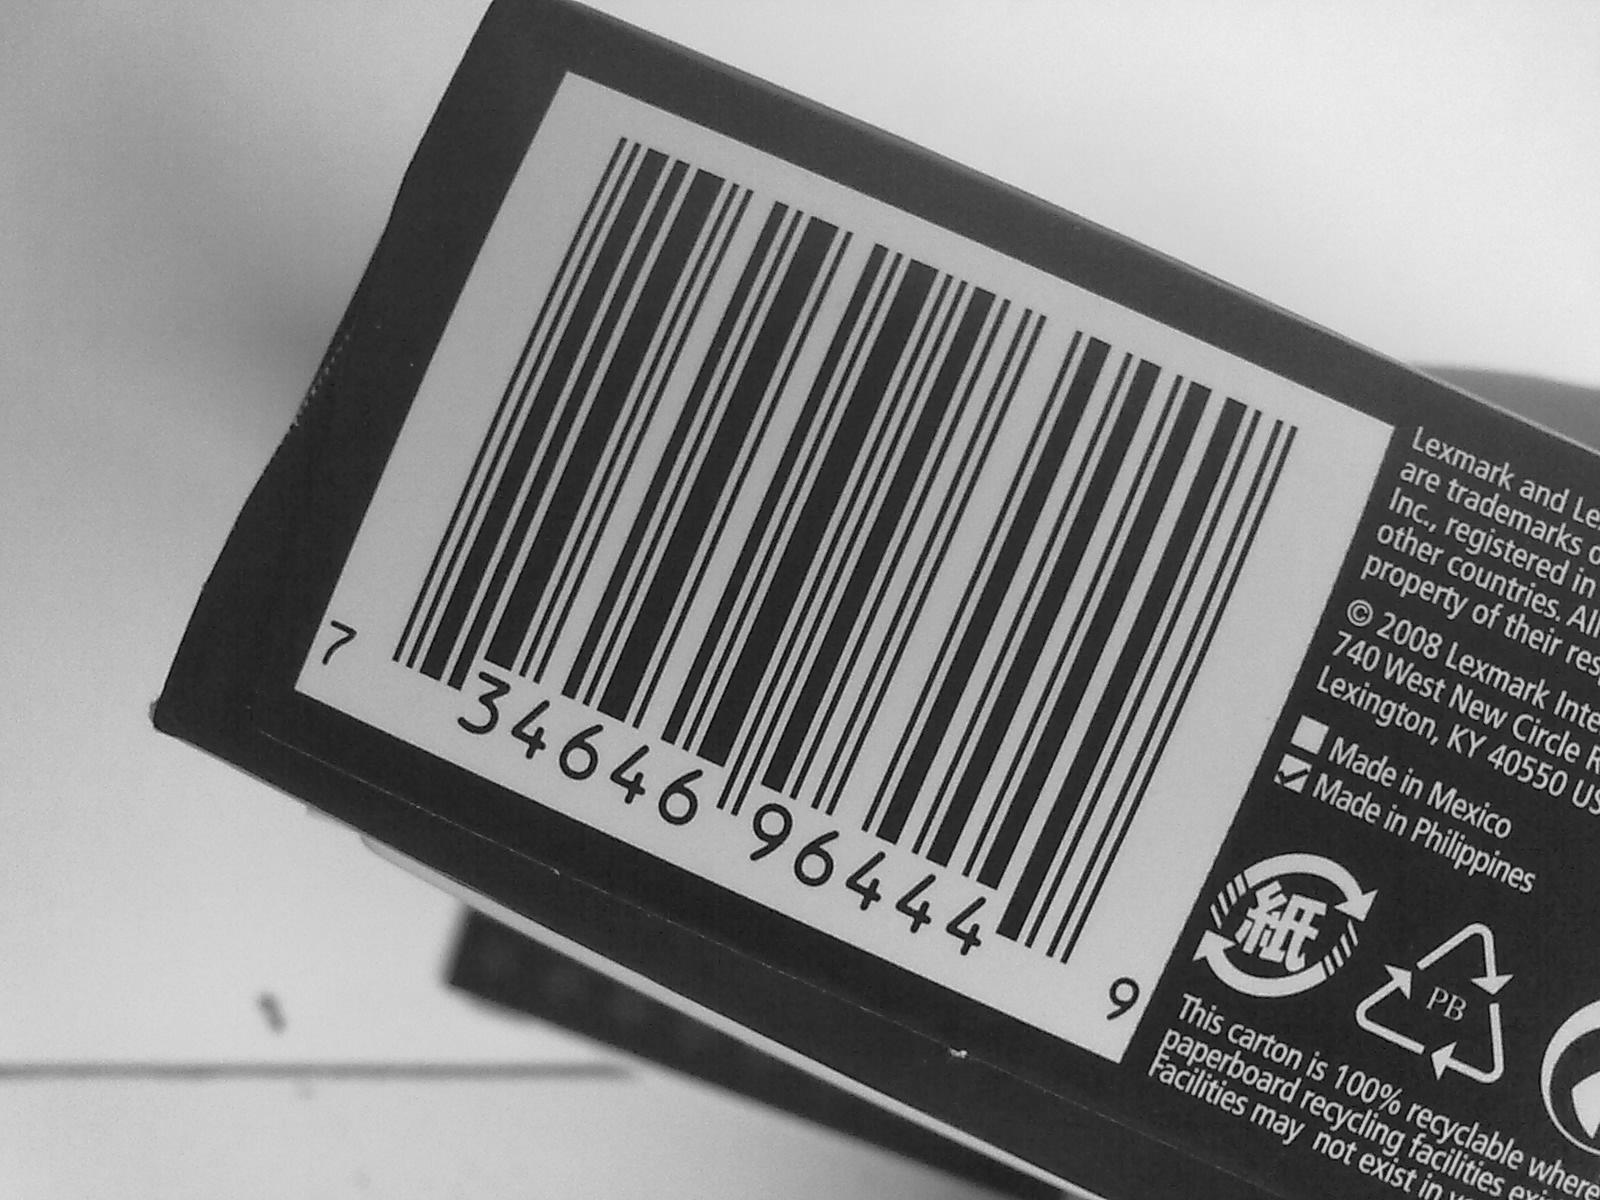Barcode: (464, 57, 1324, 973)
